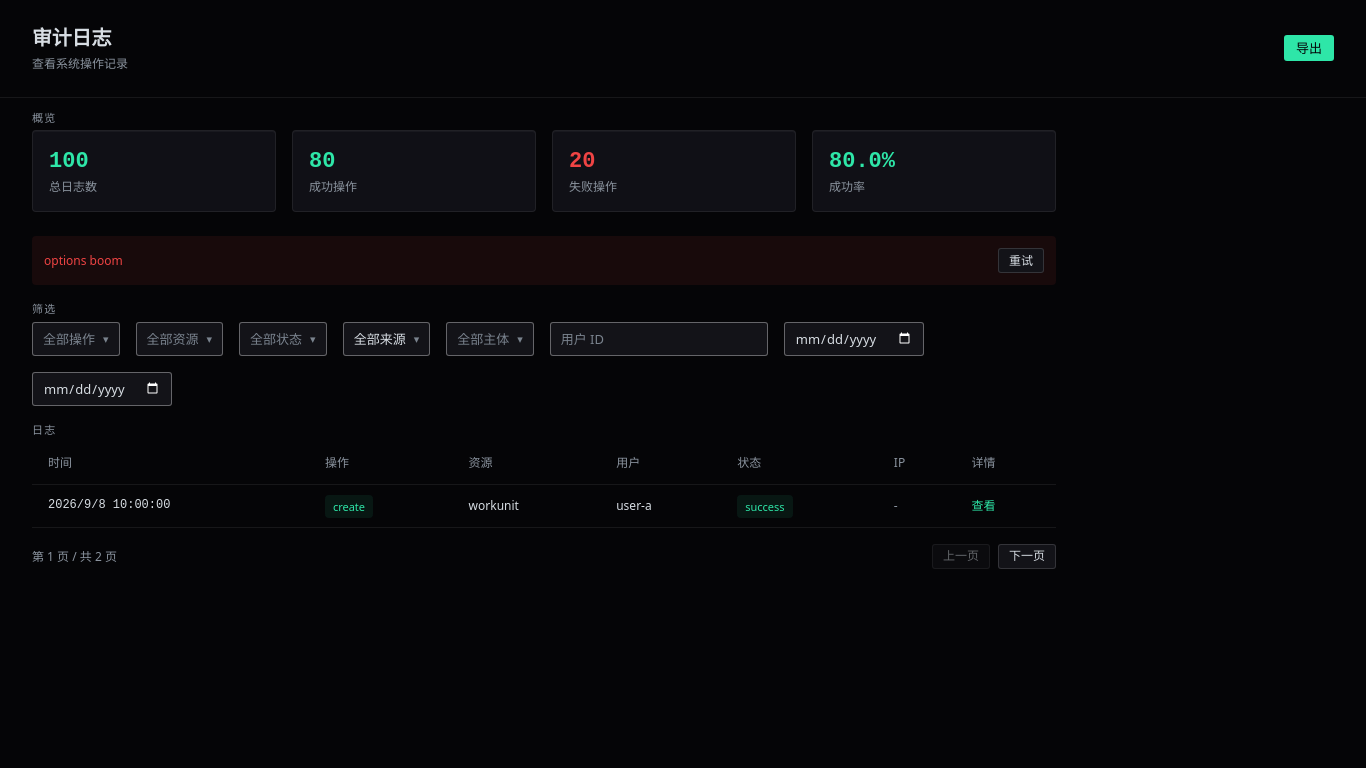
Test case: AuditLogsPage（E7 审计日志页改造） › 下拉 options 子拉取失败：错误行 + 重试，点击后重拉恢复筛选项（原 try/catch 只 console.error 静默）
Expected: the text "user-a" is shown, x1=600 y1=484 x2=721 y2=527
Expected: the text "options boom" is shown, x1=44 y1=252 x2=123 y2=269
Click the button "重试" at (1021,261), box x1=998 y1=248 x2=1044 y2=273
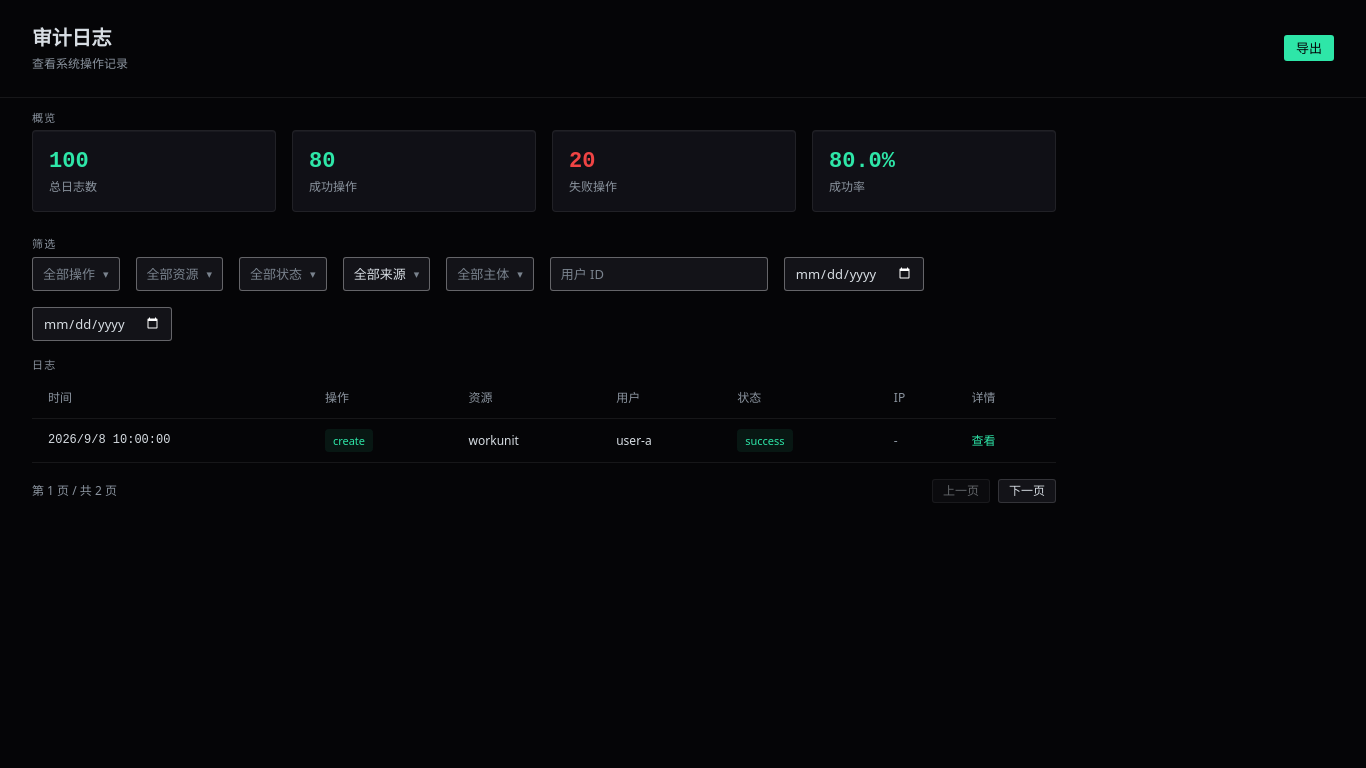
Now the text "options boom" is gone
Note: 恢复后操作筛选下拉带 actions 选项
Click the button with aria-label "操作筛选" at (76,274), box x1=32 y1=256 x2=120 y2=291
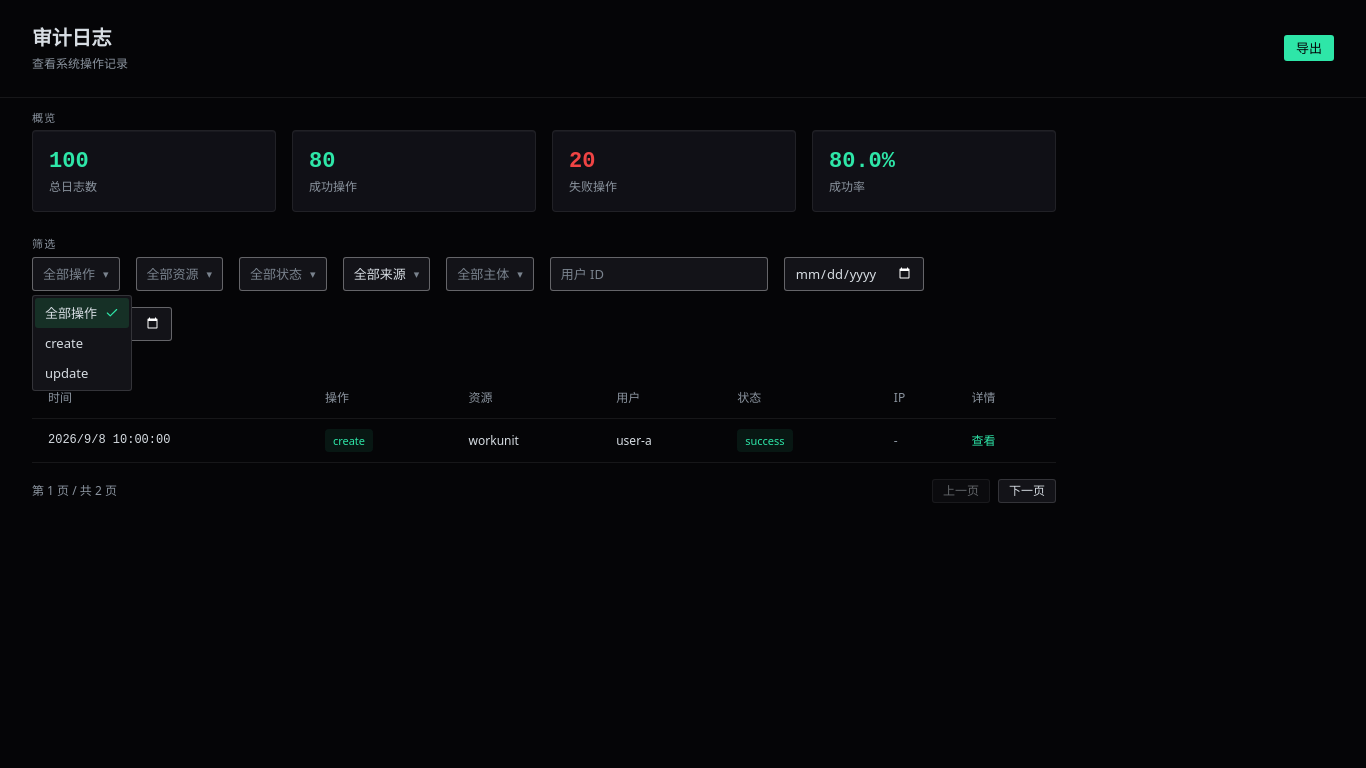
Now the option "create" is shown, box x1=45 y1=334 x2=83 y2=352
